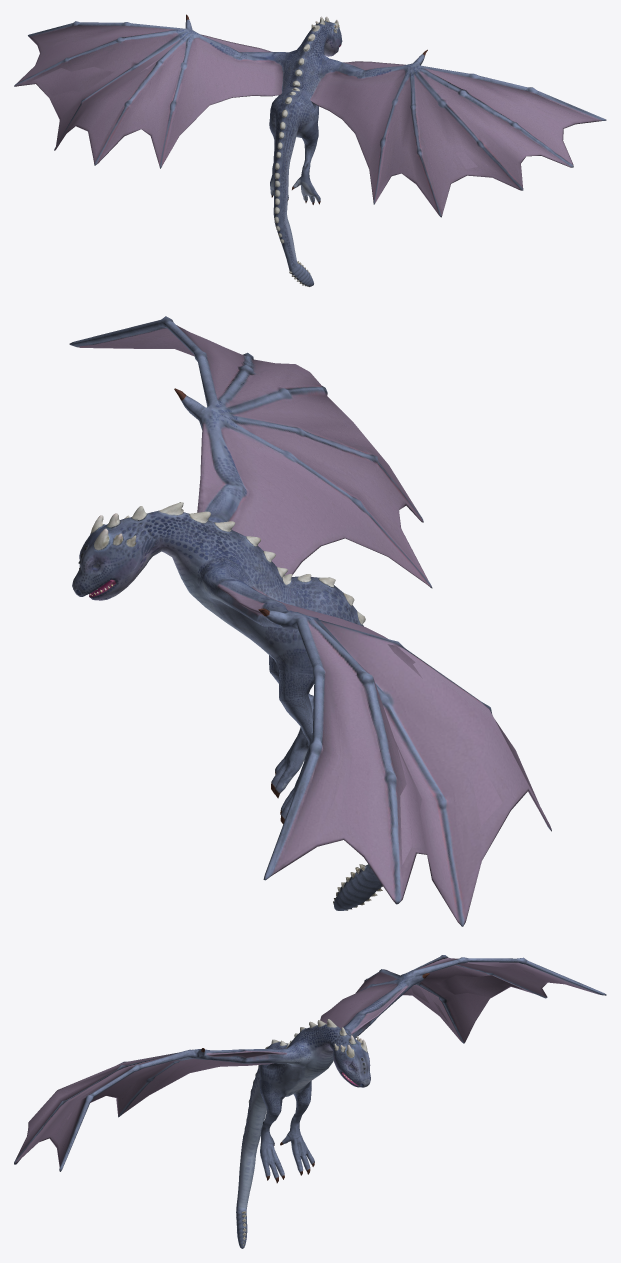
The model's file is purple_dragon.obj.
3 views of the same model, one above another, from view 1: azimuth 30°, elevation 25°; view 2: azimuth 150°, elevation 25°; view 3: azimuth 270°, elevation 25° (orthographic). The views are drawn at different scales.
Visible parts, largest first — view 1: PurpleDragon_Cube.001; view 2: PurpleDragon_Cube.001; view 3: PurpleDragon_Cube.001.
Part boxes in pixels (x1,y1,x2,y2): PurpleDragon_Cube.001: [14, 14, 606, 286]; PurpleDragon_Cube.001: [69, 316, 551, 926]; PurpleDragon_Cube.001: [14, 955, 606, 1248].
Size of the model in its own units: 0.4171 by 0.236 by 0.4974.
1 material, 1 textured.
